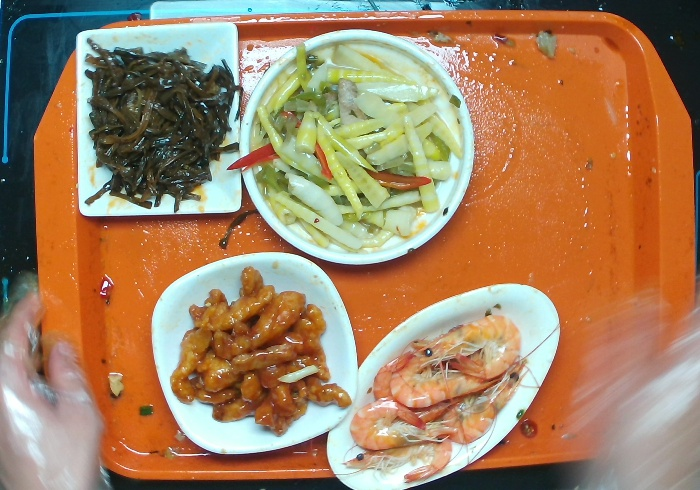HZYJPL-Si_Fang_Die: (70, 20, 244, 218)
HZYJPL-Si_Fang_Yuan_Die: (150, 249, 361, 458)
HZYJPL-Xiao_Yu_Die: (324, 280, 561, 490)
HZYJPL-Xiao_Yuan_Die: (236, 27, 476, 269)
